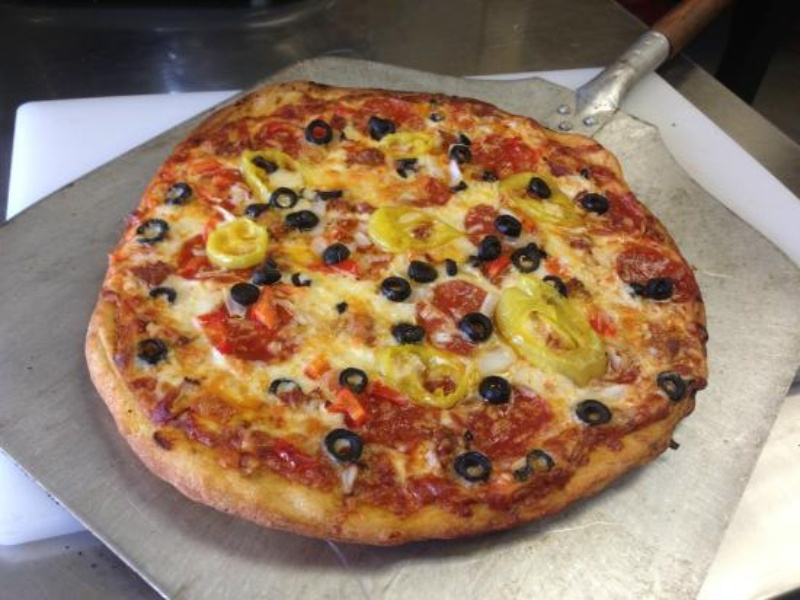olive noir: (308, 420, 375, 463), (441, 448, 497, 484), (130, 213, 172, 251), (572, 397, 616, 432), (455, 313, 502, 345), (508, 243, 552, 277), (332, 364, 378, 394), (369, 275, 418, 303), (221, 277, 268, 306), (475, 370, 513, 404), (633, 274, 676, 304), (381, 320, 430, 346), (399, 260, 445, 286), (135, 337, 176, 366), (262, 182, 302, 210), (519, 171, 556, 201), (578, 185, 609, 220), (314, 241, 355, 267), (364, 111, 401, 139), (302, 118, 336, 147), (495, 213, 522, 240)
pepperonis: (185, 296, 323, 362), (445, 126, 540, 177), (426, 276, 502, 321)
